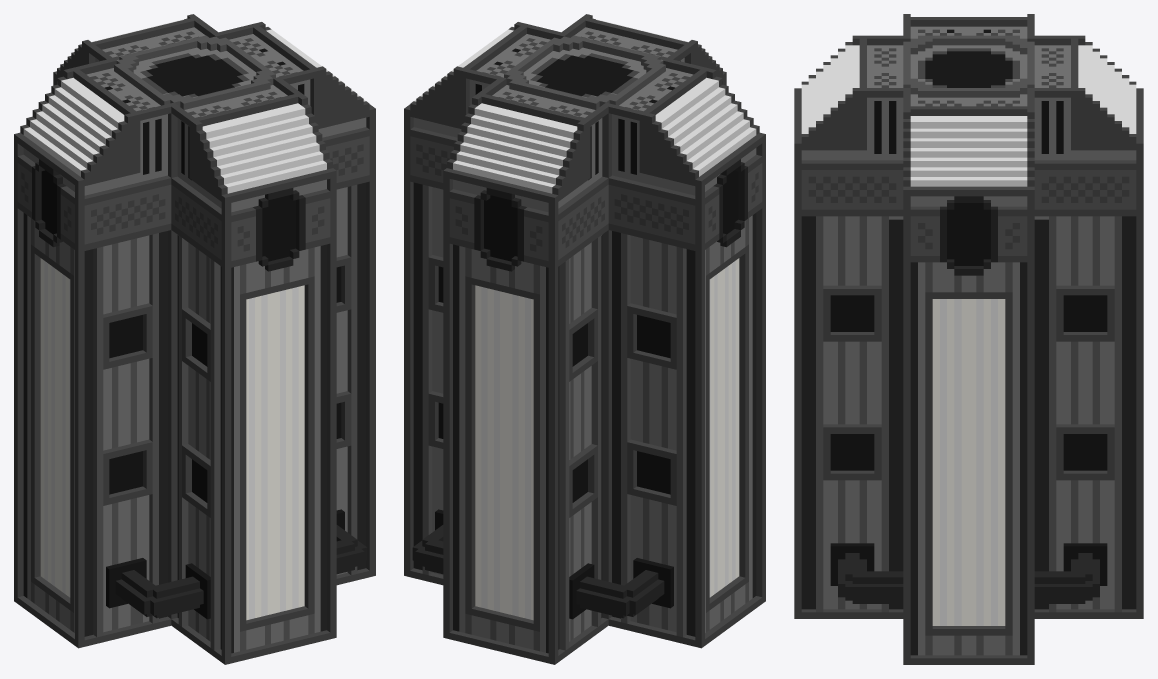
Rendered from Matter_Composer.obj.
3 renders of one model, left to right at view 1: azimuth 30°, elevation 25°; view 2: azimuth 150°, elevation 25°; view 3: azimuth 270°, elevation 25°, orthographic.
Size of the model in its own units: 48 by 80 by 48.
1 material, 1 textured.
